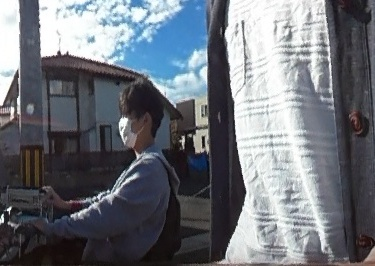person: (39, 78, 175, 253)
